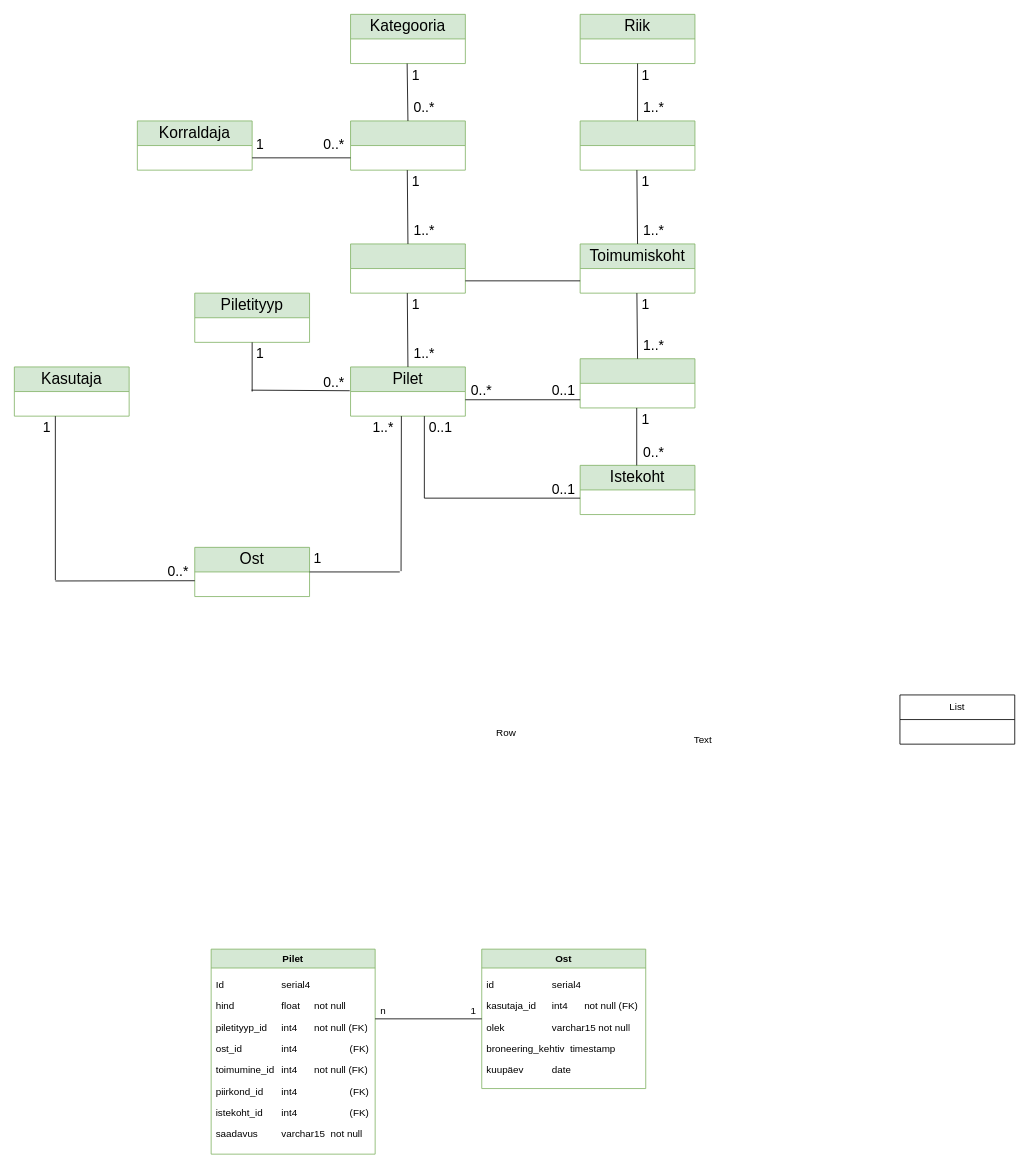
The diagram is 1029 pixels wide and 1169 high, and some of its shapes have lost their labels. The shapes that lost their labels are listed below. From the top down, each one's centre as x and y in pixels, then its label:
At pixel 407 145: "Yritus".
At pixel 637 145: "Asula".
At pixel 407 268: "Toimumine".
At pixel 637 383: "piirkond".
